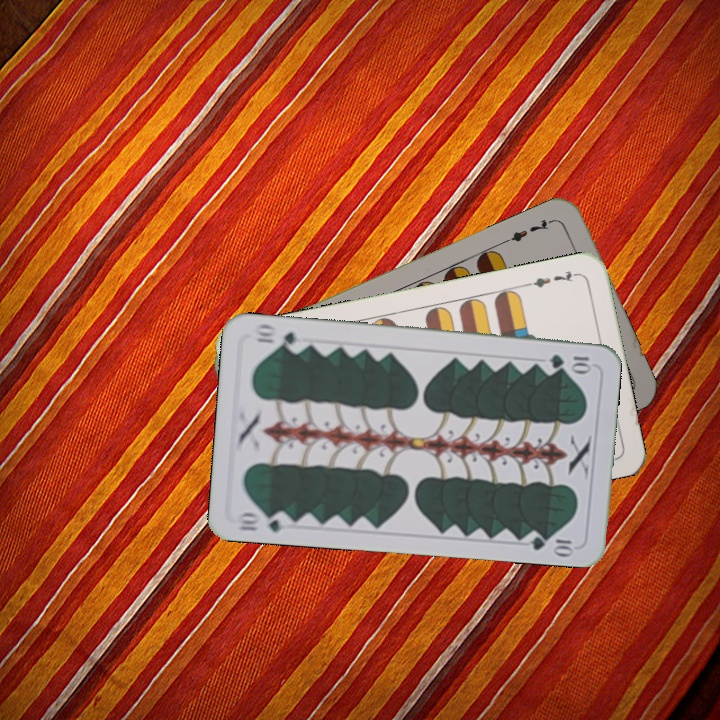E7: (501, 215, 557, 246), (523, 266, 582, 291)
G10: (233, 507, 292, 535), (546, 350, 594, 373)
